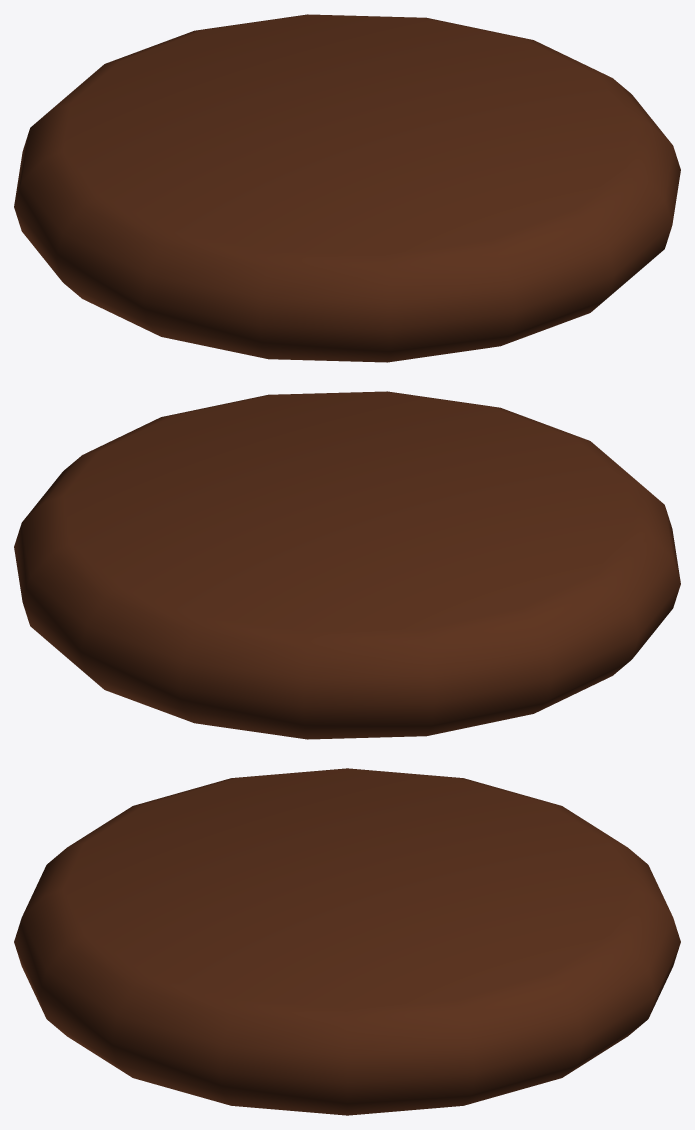
File: Meat row.fbx
3 renders of one model, top to bottom at view 1: azimuth 30°, elevation 25°; view 2: azimuth 150°, elevation 25°; view 3: azimuth 270°, elevation 25°, orthographic.
Visible parts, largest first — view 1: Meat; view 2: Meat; view 3: Meat.
Boxes of the visible parts, x1=… form: Meat: x1=14, y1=14, x2=680, y2=362; Meat: x1=14, y1=391, x2=680, y2=739; Meat: x1=14, y1=768, x2=680, y2=1115.
Bounding box in the file's own units: 196 × 34.35 × 196.
